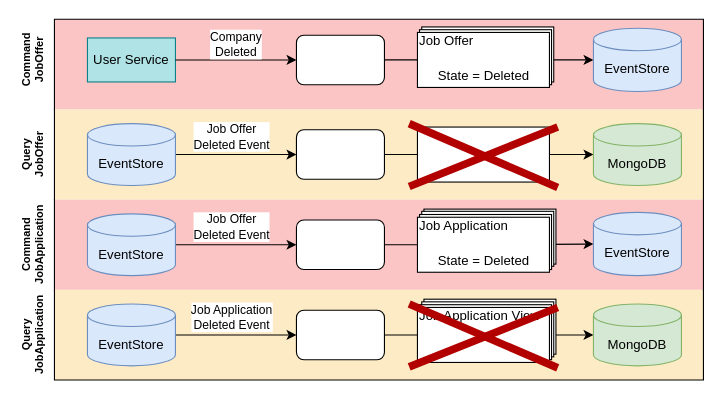
This 723x400 diagram has some shape labels left out. The shapes that lost their labels are listed below. From the top down, each one's box as (x1, y1, x2, y2) in pixels, then its label:
(295, 34, 384, 85): JobOffer External Event Listener
(295, 129, 384, 179): JobOffer View Projector
(416, 126, 549, 182): Job Offer View
(295, 219, 384, 270): JobApplication Internal Event Listener
(295, 309, 384, 360): JobApplication View Projector
